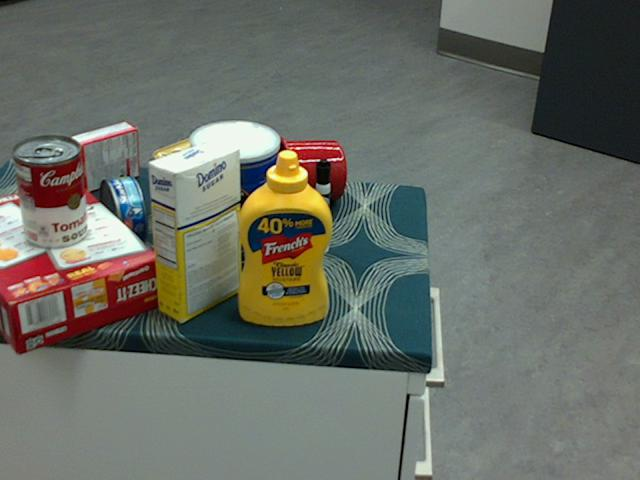cracker_box: (0, 177, 163, 353)
gelatin_box: (69, 121, 138, 193)
large_marker: (314, 158, 331, 253)
master_chef_can: (187, 119, 277, 264)
mug: (268, 135, 345, 207)
mustard_bottle: (238, 149, 332, 325)
potted_meat_can: (151, 131, 230, 222)
sugar_box: (147, 139, 242, 321)
tomato_soup_can: (12, 135, 87, 249)
tuna_fish_can: (97, 176, 145, 250)
